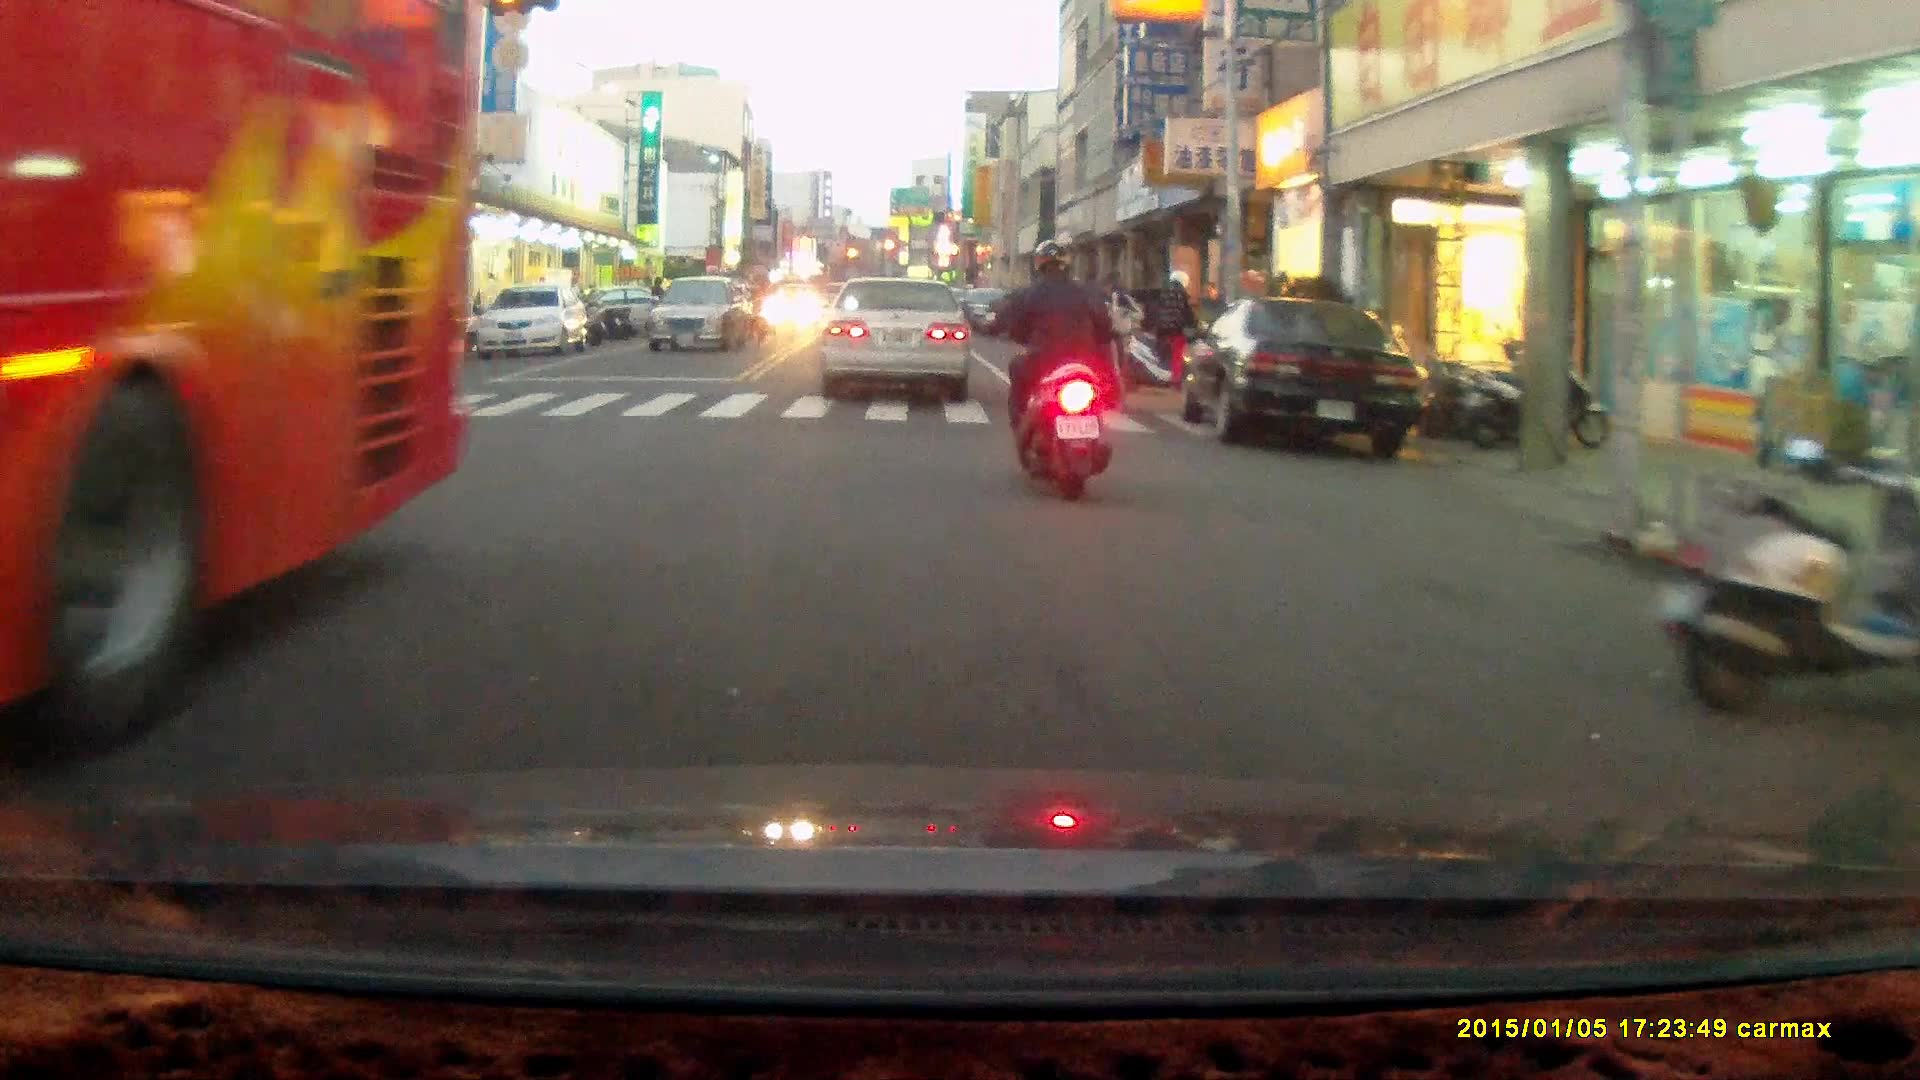pedestrian: (1161, 267, 1201, 398), (649, 277, 672, 344)
rider: (989, 240, 1115, 505)
vehicle: (1, 16, 476, 724), (1177, 302, 1436, 459), (823, 276, 979, 408), (471, 286, 585, 363), (650, 279, 751, 355)
